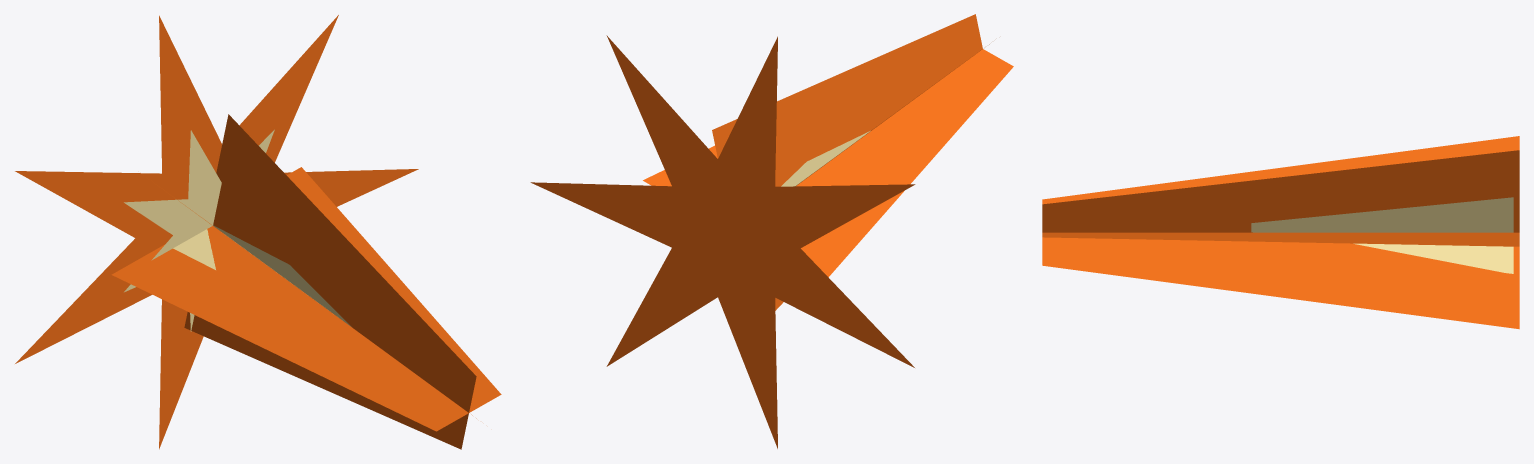
File: fpsMuzzleFlash.obj
3 renders of one model, left to right at view 1: azimuth 30°, elevation 25°; view 2: azimuth 150°, elevation 25°; view 3: azimuth 270°, elevation 25°, orthographic. The views are drawn at different scales.
Size of the model in its own units: 0.1426 by 0.1462 by 0.16.
